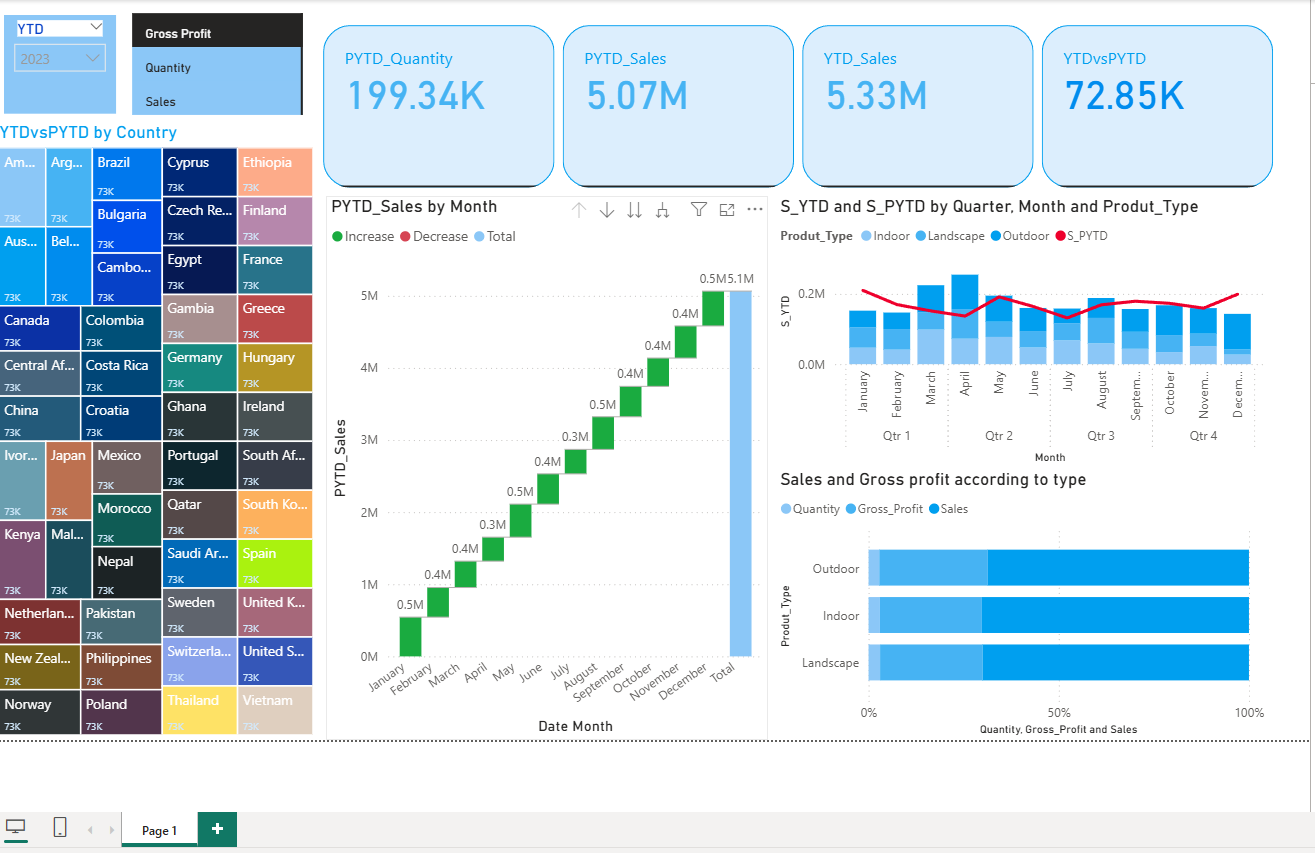

Layout of this report page (visuals, bound fields, positions):
{"tool":"powerbi","page":{"name":"Page 1","canvas":[1280,720],"ordinal":0},"visuals":[{"type":"cardVisual","fields":{"Data":["_Measure.PYTD_Quantity","_Measure.PYTD_Sales","_Measure.YTD_Sales","_Measure.YTDvsPYTD"]},"box":[315.1,19.5,935.7,168.3],"z":0},{"type":"advancedSlicerVisual","fields":{"Values":["Slc_Values.Values"]},"box":[129.4,7.8,176,109.9],"z":1000},{"type":"slicer","fields":{"Values":["Dim_Date.Date.Variation.Date Hierarchy.Year"]},"box":[9.7,14.6,108.9,96.3],"z":2000},{"type":"treemap","title":"YTDvsPYTD by Country","fields":{"Values":["_Measure.YTDvsPYTD"],"Group":["Dim_Account.country"]},"box":[0,118.7,315.1,601.1],"z":3000},{"type":"waterfallChart","fields":{"Category":["Dim_Date.Date.Variation.Date Hierarchy.Month","Dim_Account.country","Dim_Product.Produt_Type","Dim_Product.Product_Name_id"],"Y":["_Measure.PYTD_Sales"]},"box":[322.9,190.6,429.9,529.1],"z":4000},{"type":"lineStackedColumnComboChart","fields":{"Y":["_Measure.S_YTD"],"Y2":["_Measure.S_PYTD"],"Category":["Dim_Date.Date.Variation.Date Hierarchy.Quarter","Dim_Date.Date.Variation.Date Hierarchy.Month"],"Series":["Dim_Product.Produt_Type"]},"box":[759.6,190.6,481.5,264.6],"z":5000},{"type":"hundredPercentStackedBarChart","title":"Sales and Gross profit according to type","fields":{"Y":["_Measure.Quantity","_Measure.Gross_Profit","_Measure.Sales"],"Category":["Dim_Product.Produt_Type"]},"box":[760,456,481,264],"z":5001}]}

Visuals, with their boxes on the page's 1280x720 design canvas (x1, y1, x2, y2). These are canvas units, not pixel positions in the 1315x853 screenshot, which may show the page scaled, cropped or inside an application window:
cardVisual - _Measure.PYTD_Quantity x _Measure.PYTD_Sales: [315,20,1251,188]
advancedSlicerVisual - Slc_Values.Values: [129,8,305,118]
slicer - Dim_Date.Date.Variation.Date Hierarchy.Year: [10,15,119,111]
"YTDvsPYTD by Country" treemap: [0,119,315,720]
waterfallChart - Dim_Date.Date.Variation.Date Hierarchy.Month x Dim_Account.country: [323,191,753,720]
lineStackedColumnComboChart - _Measure.S_YTD x _Measure.S_PYTD: [760,191,1241,455]
"Sales and Gross profit according to type" hundredPercentStackedBarChart: [760,456,1241,720]
